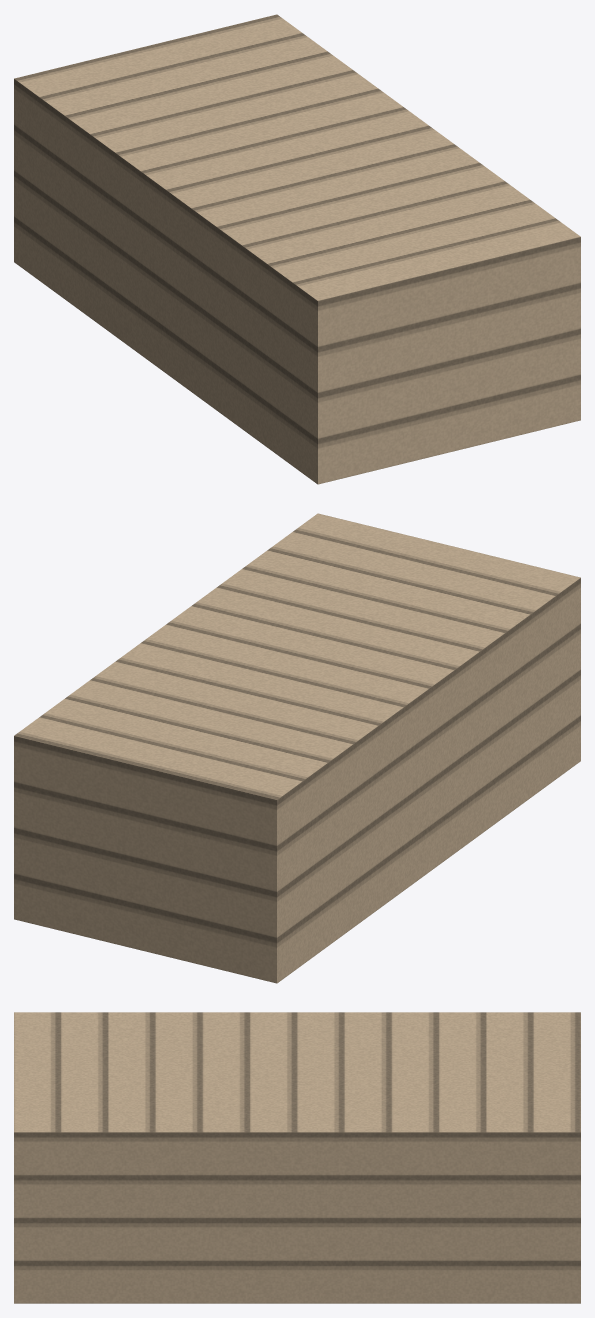
The model's file is tub_shower.glb.
3 renders of one model, top to bottom at view 1: azimuth 30°, elevation 25°; view 2: azimuth 150°, elevation 25°; view 3: azimuth 270°, elevation 25°, orthographic. The views are drawn at different scales.
Visible parts, largest first — view 1: tub_shower-col; view 2: tub_shower-col; view 3: tub_shower-col.
Part boxes in pixels (bbox=[...]): tub_shower-col: bbox=[14, 14, 580, 484]; tub_shower-col: bbox=[14, 513, 580, 983]; tub_shower-col: bbox=[14, 1012, 580, 1303].
Size of the model in its own units: 0.75 by 0.5 by 1.5.
1 material, 1 textured.
